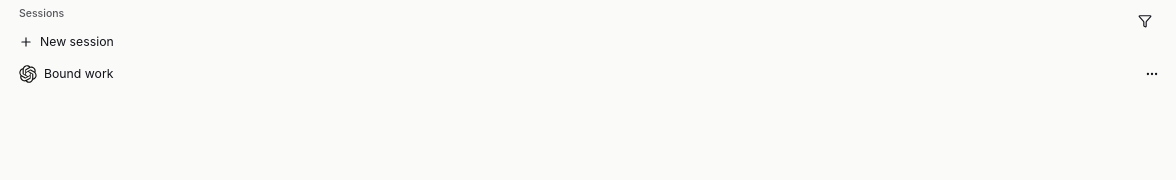
Test case: Session sidebar WeChat controls › shows no WeChat controls when no account is linked
Expected: the button "Bound work" is shown, x1=12 y1=60 x2=1164 y2=88
Press the mouse on the button named "Actions for Bound work": (1152, 74) x1=1143 y1=65 x2=1160 y2=82
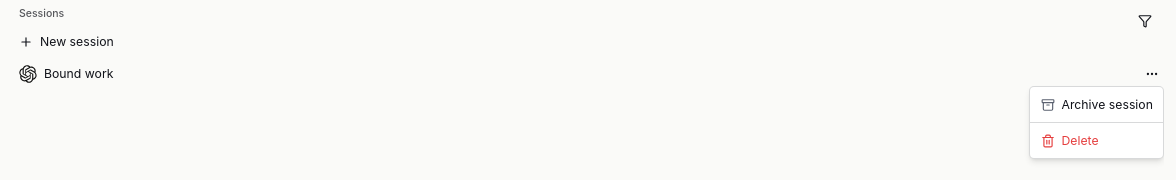
Now the menu item "Archive session" is shown, box x1=1040 y1=97 x2=1153 y2=112
